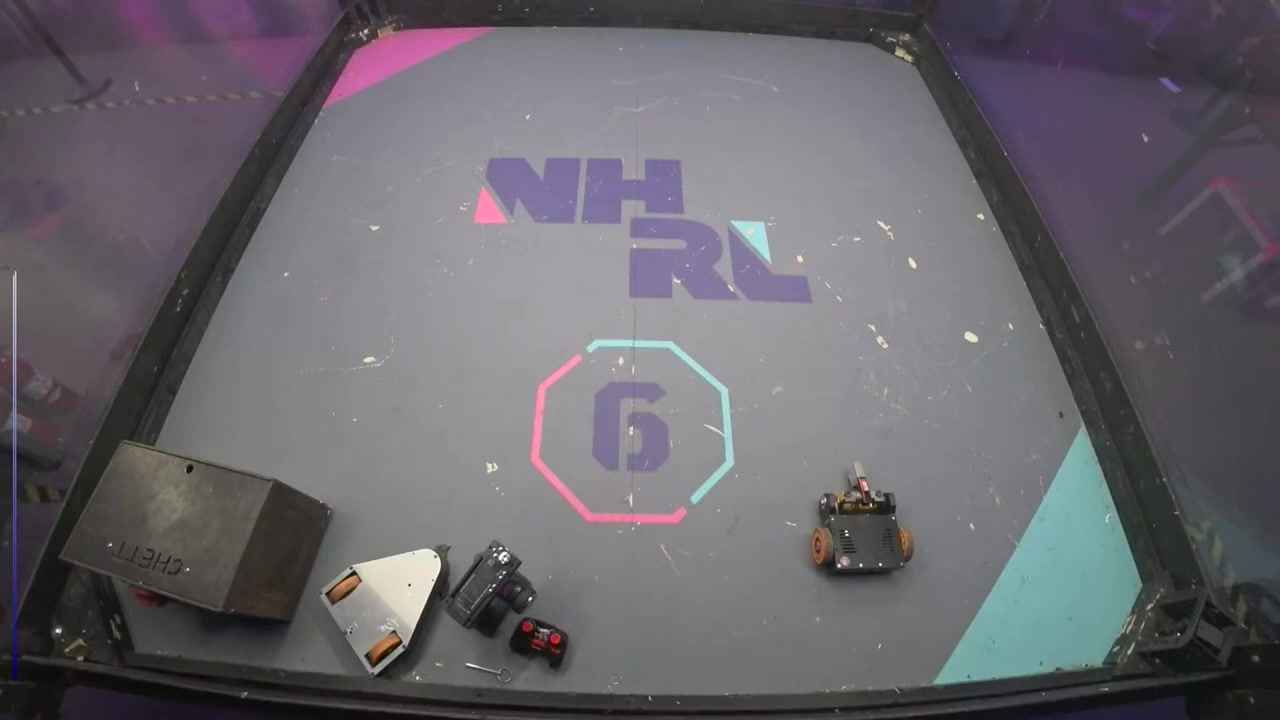combatbot: (320, 543, 452, 674), (809, 461, 914, 578)
housebot: (56, 440, 332, 624)
